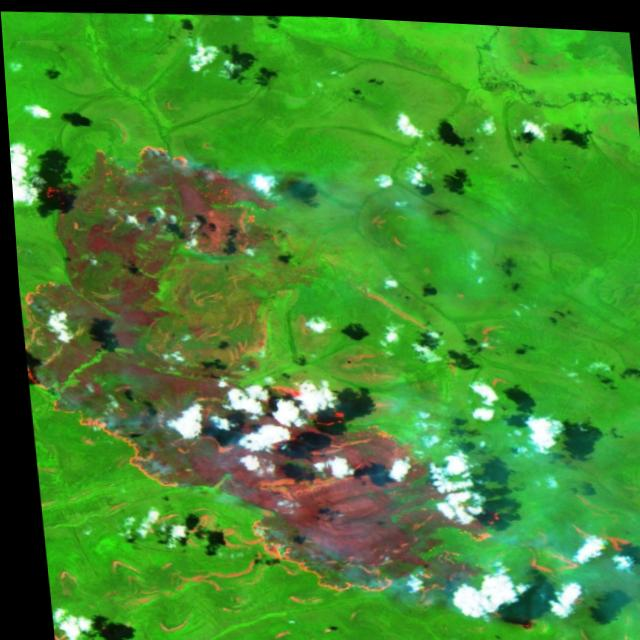fire: (14, 258, 521, 627), (41, 130, 314, 274)
